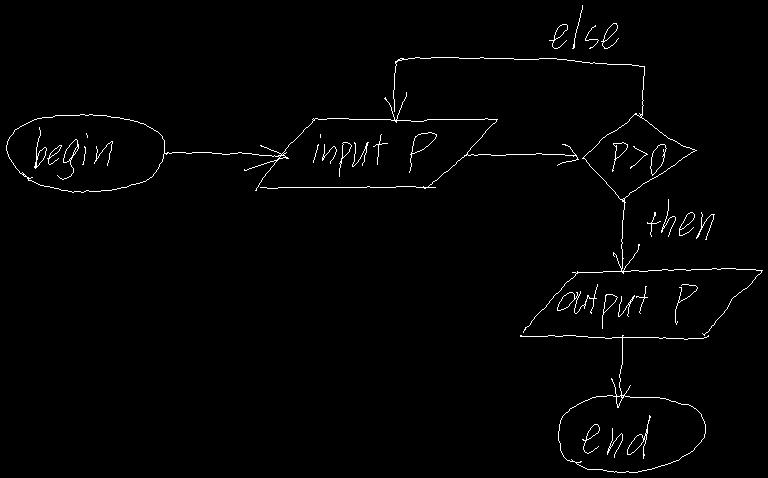arrow: (384, 57, 644, 122), (165, 145, 288, 170), (464, 144, 578, 165), (613, 200, 639, 273), (611, 335, 630, 407)
data: (255, 118, 497, 190), (520, 268, 762, 339)
decision: (582, 113, 696, 202)
terminator: (6, 114, 164, 192), (558, 395, 705, 472)
text: (557, 284, 697, 328), (313, 132, 436, 176), (34, 127, 112, 179), (549, 5, 618, 48), (582, 415, 650, 458), (647, 199, 714, 239), (612, 142, 666, 175)
